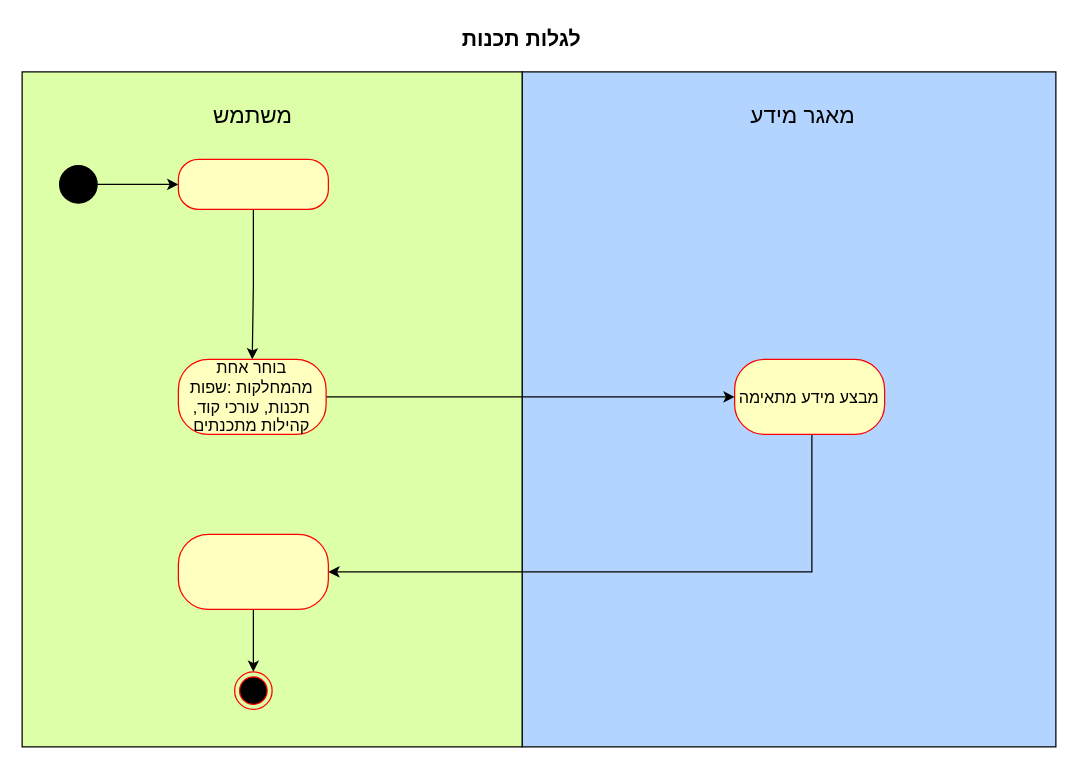
This 1078x769 diagram has some shape labels left out. The centre of each missing label's shape, as x and y in pixels:
מציג מידע למשתמש: the point at 252,571
נכנס לדף "לגלות תכנות": the point at 252,183
